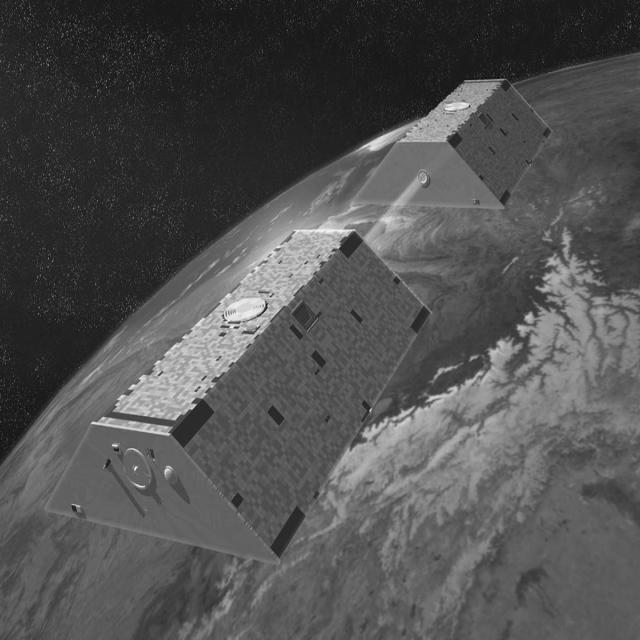medium_debris: (48, 45, 551, 585)
